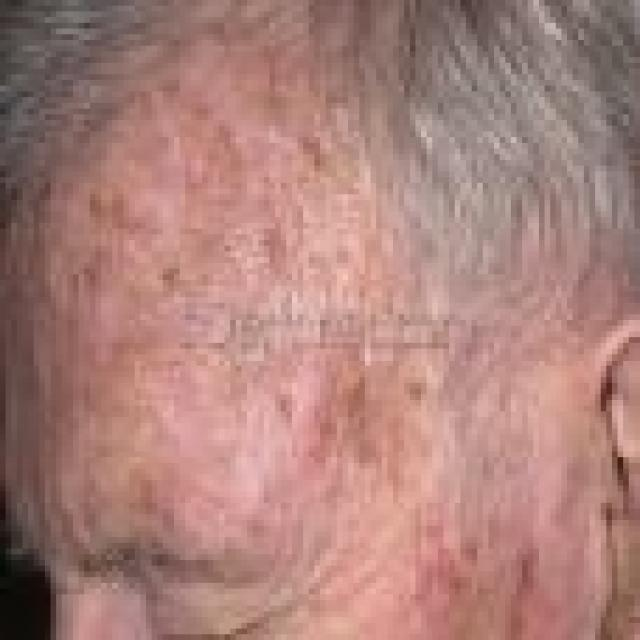Melasma: (60, 104, 419, 514)
